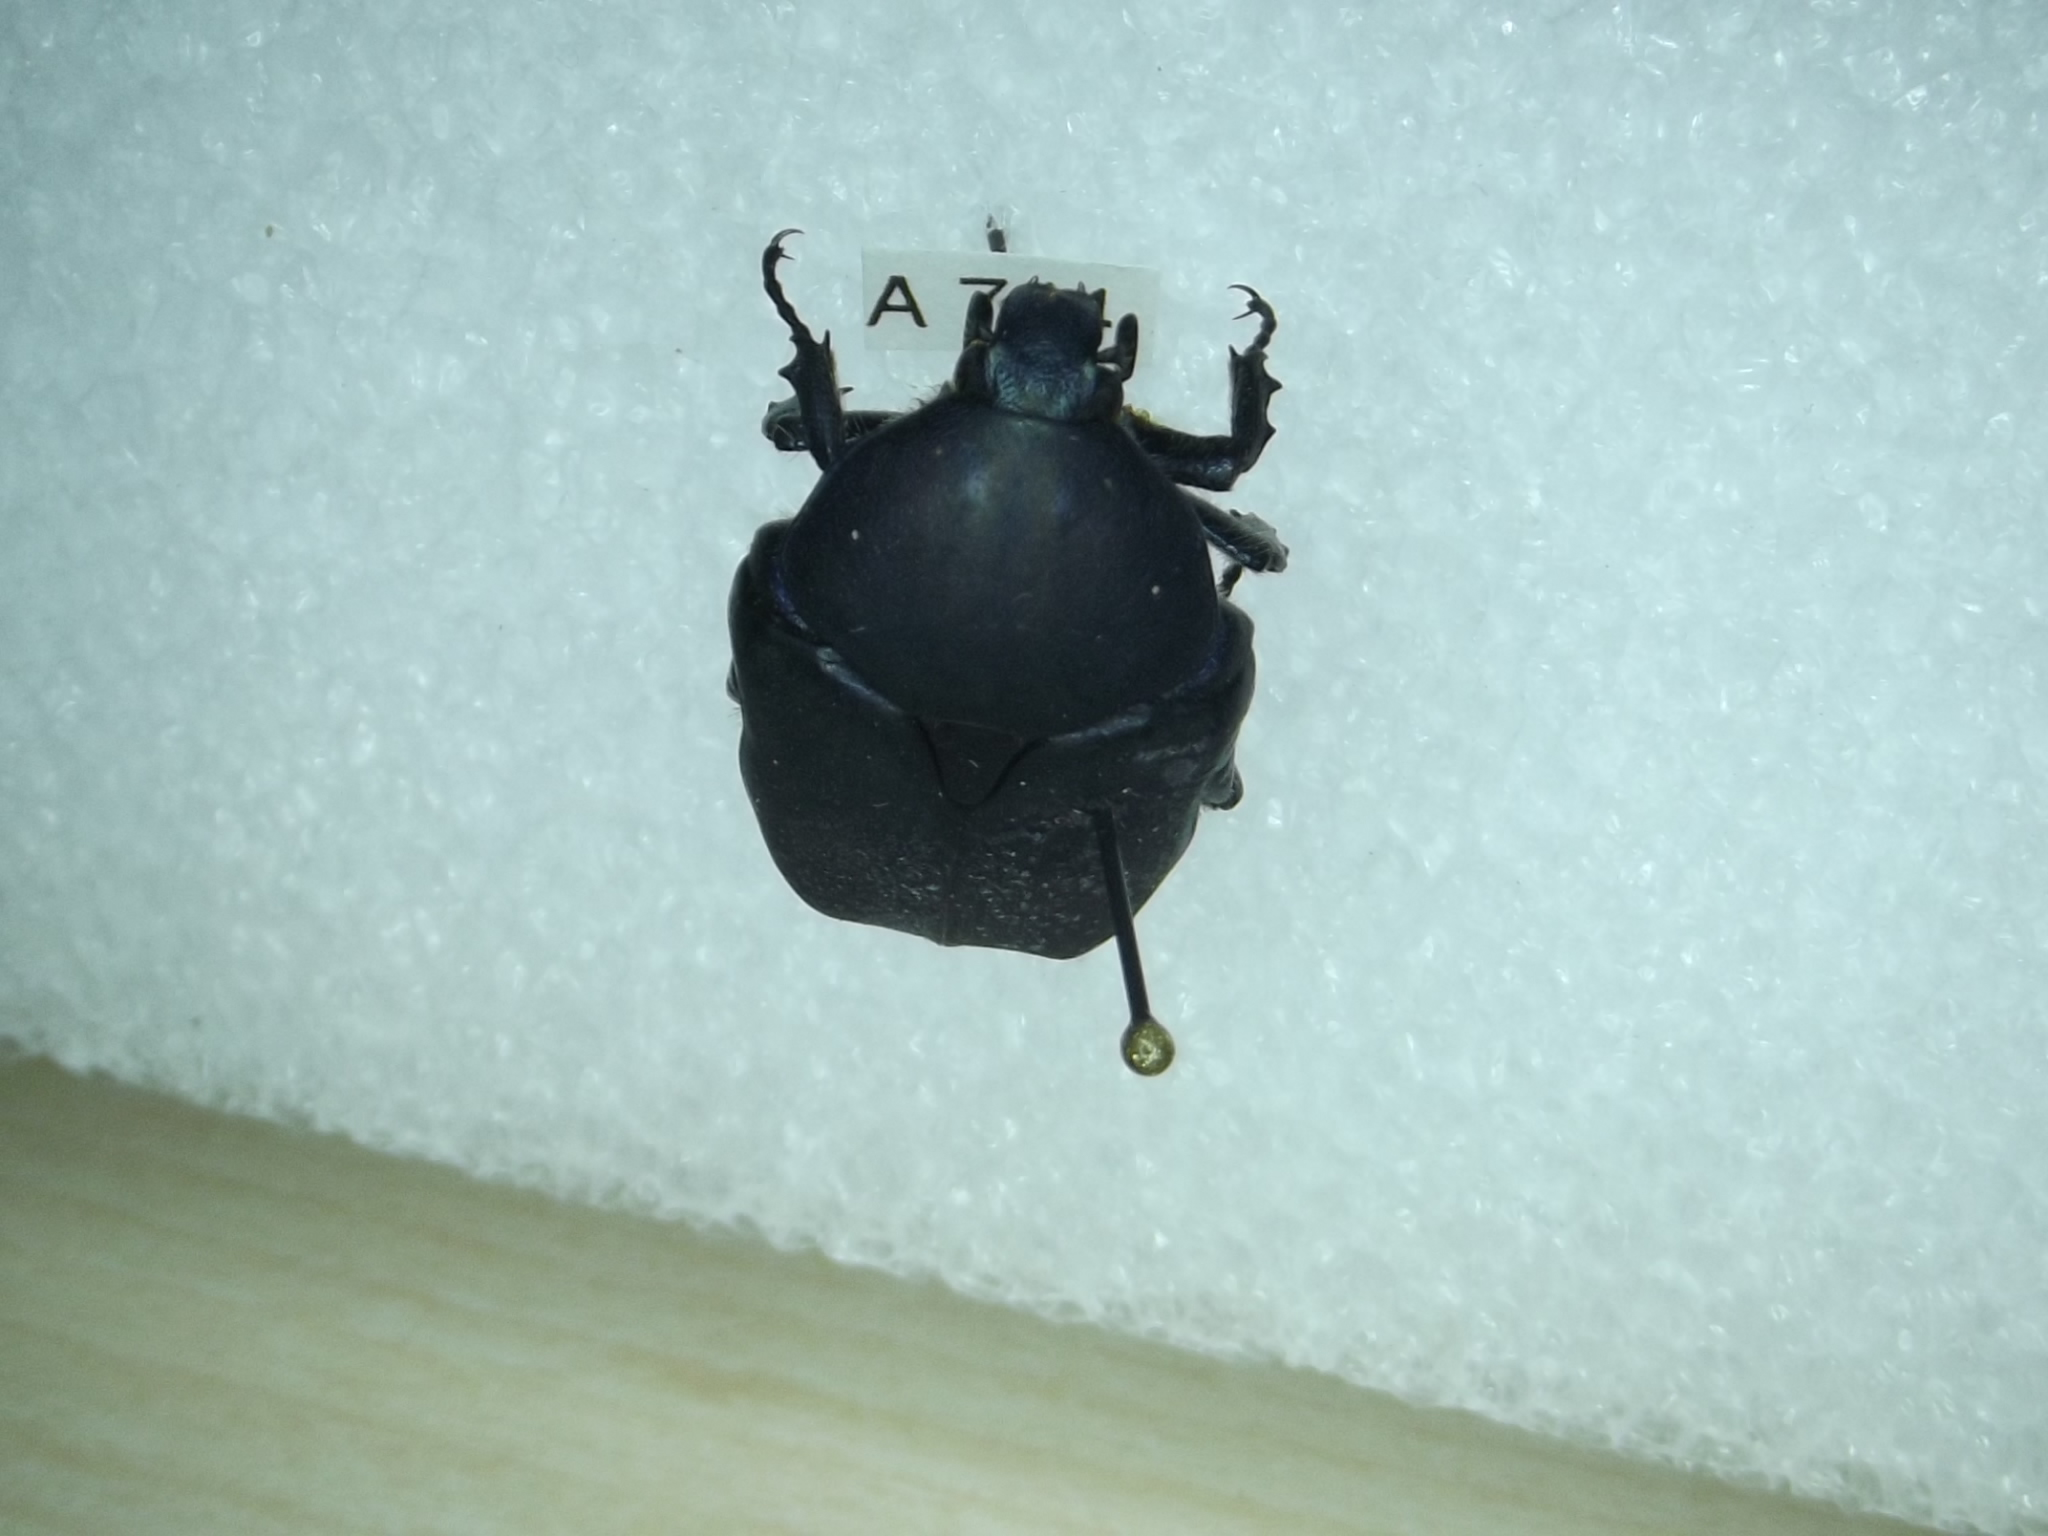Protaetia_afflicta: (713, 213, 1297, 975)
